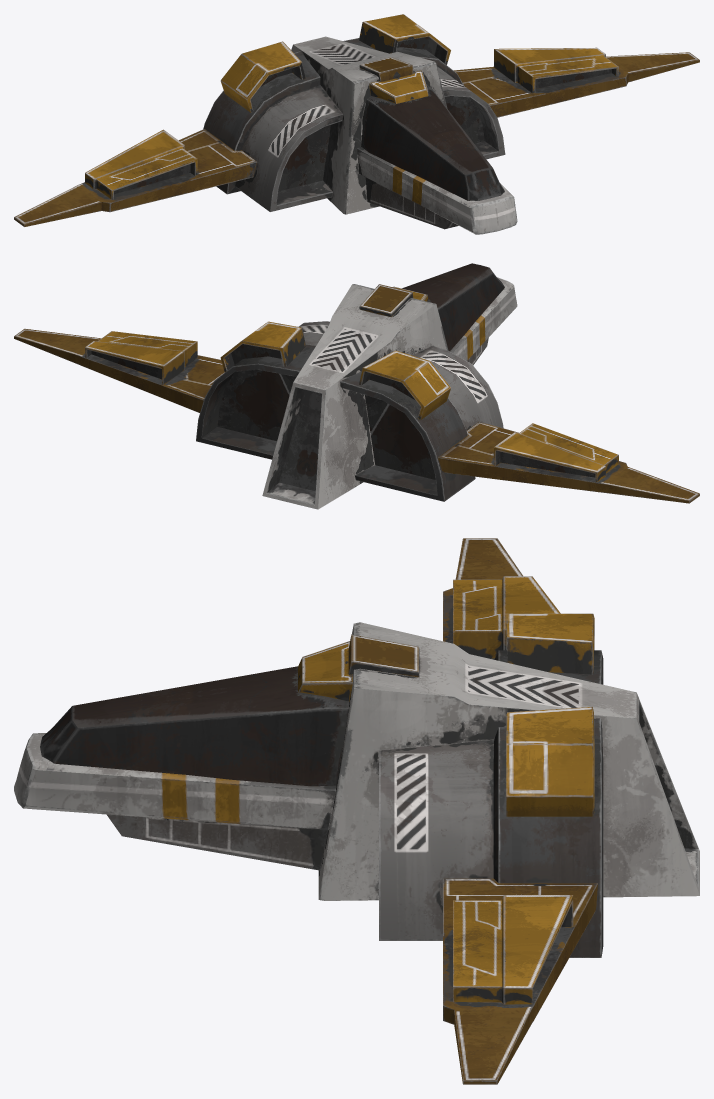
File: qs_bob.glb
3 views of the same model, one above another, from view 1: azimuth 30°, elevation 25°; view 2: azimuth 150°, elevation 25°; view 3: azimuth 270°, elevation 25° (orthographic). The views are drawn at different scales.
Visible parts, largest first — view 1: Bob; view 2: Bob; view 3: Bob.
Boxes of the visible parts, <box> form: Bob: <box>14,14,699,234</box>; Bob: <box>14,263,699,509</box>; Bob: <box>14,538,699,1084</box>.
Bounding box in the file's own units: 10.5 × 2.04 × 5.61.
Materials: 1 (1 with a texture image).
